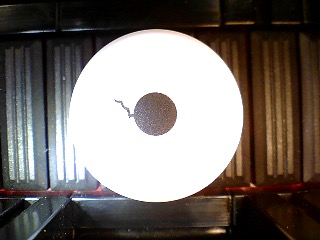CRACK: (68, 28, 244, 203)
